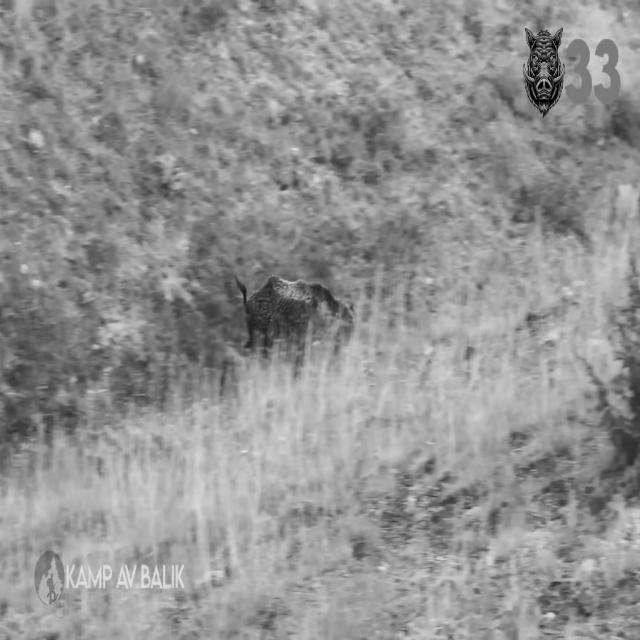boar: (235, 276, 353, 348)
